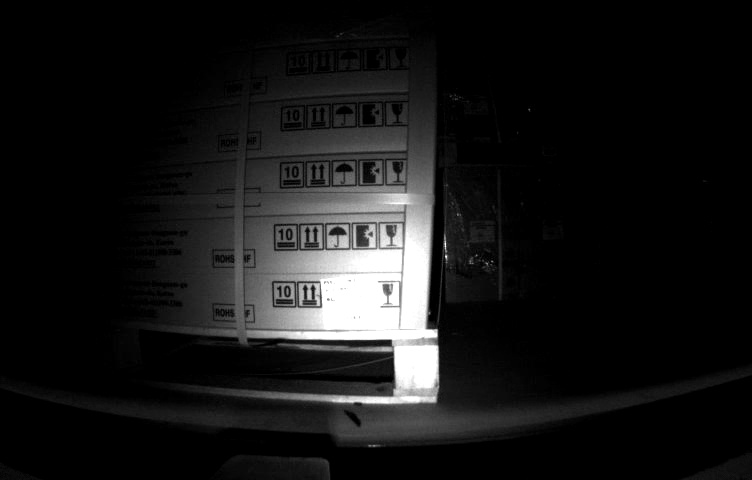True Barcode: (319, 270, 380, 328)
